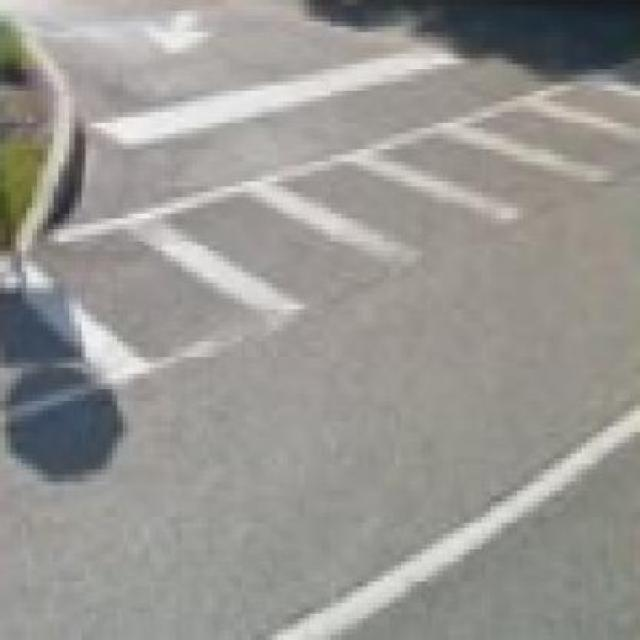crosswalk: (26, 56, 640, 382)
